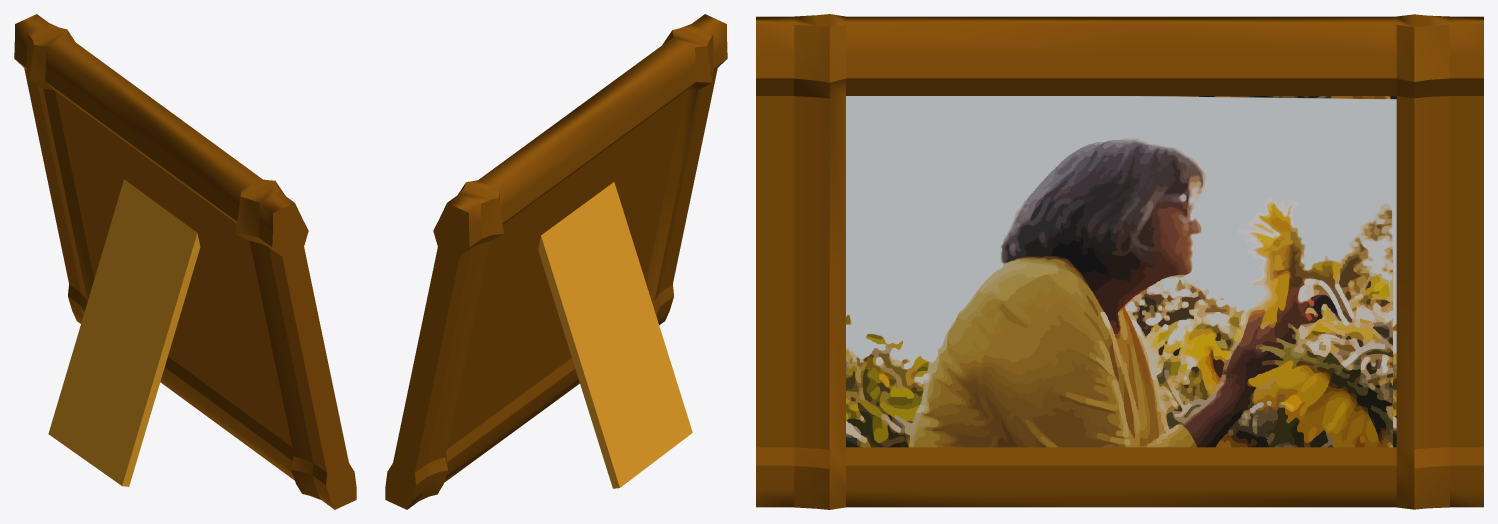
File: moldura.fbx
3 views of the same model, side by side, from view 1: azimuth 30°, elevation 25°; view 2: azimuth 150°, elevation 25°; view 3: azimuth 270°, elevation 25° (orthographic). The views are drawn at different scales.
Visible parts, largest first — view 1: Cube; view 2: Cube; view 3: Cube.
Part boxes in pixels (x1,y1,x2,y2): Cube: (14,14,356,509); Cube: (385,14,727,509); Cube: (756,14,1483,509).
Bounding box in the file's own units: 102 × 218 × 302.
3 materials, 1 textured.
